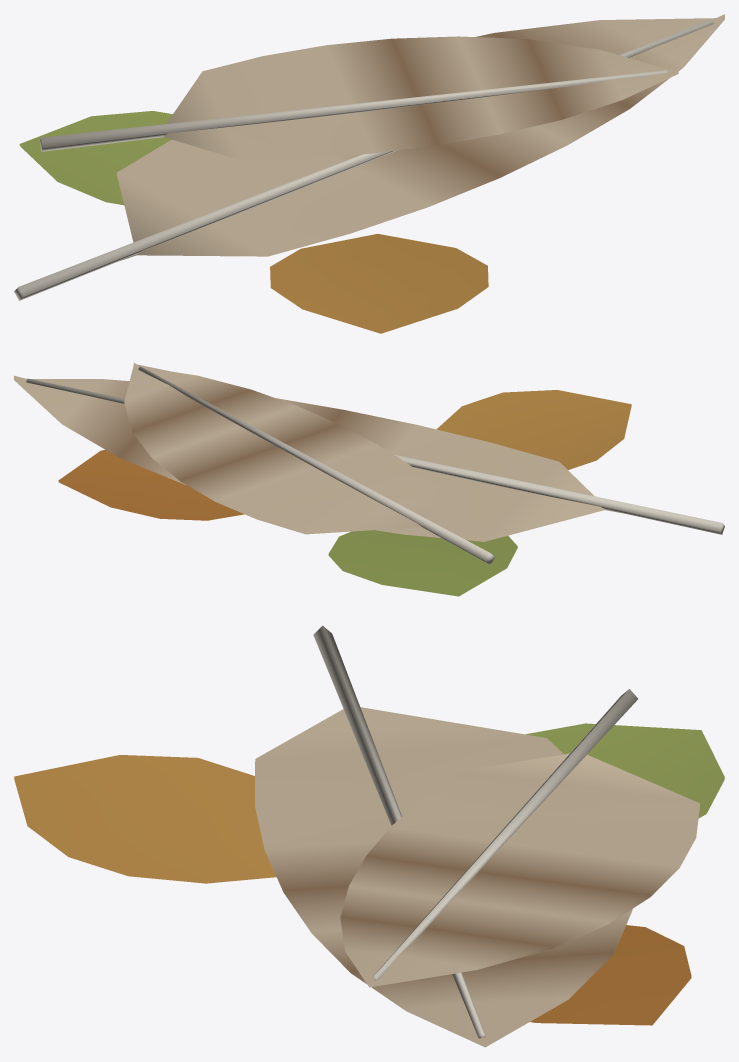
File: ing_owl_feather.glb
The picture shows the model from 3 angles, top to bottom: view 1: azimuth 30°, elevation 25°; view 2: azimuth 150°, elevation 25°; view 3: azimuth 270°, elevation 25°; orthographic projection. The views are drawn at different scales.
Visible parts, largest first — view 1: ing_owl_feather; view 2: ing_owl_feather; view 3: ing_owl_feather.
Boxes of the visible parts, x1,y1,x2,y2 form: ing_owl_feather: (14, 14, 724, 333); ing_owl_feather: (14, 363, 724, 596); ing_owl_feather: (14, 625, 724, 1047).
Size of what is drawn, in the model's own units: 0.507 by 0.044 by 0.3322.
